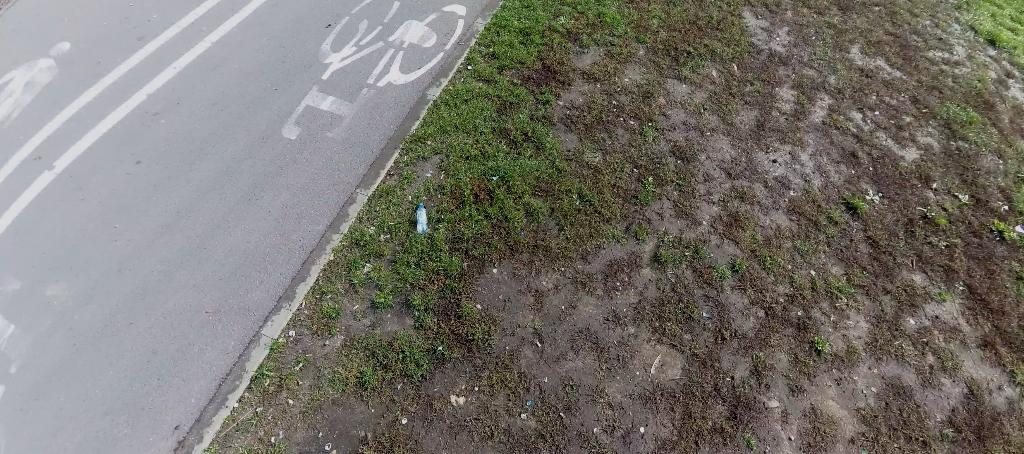garbage: (415, 202, 427, 237)
